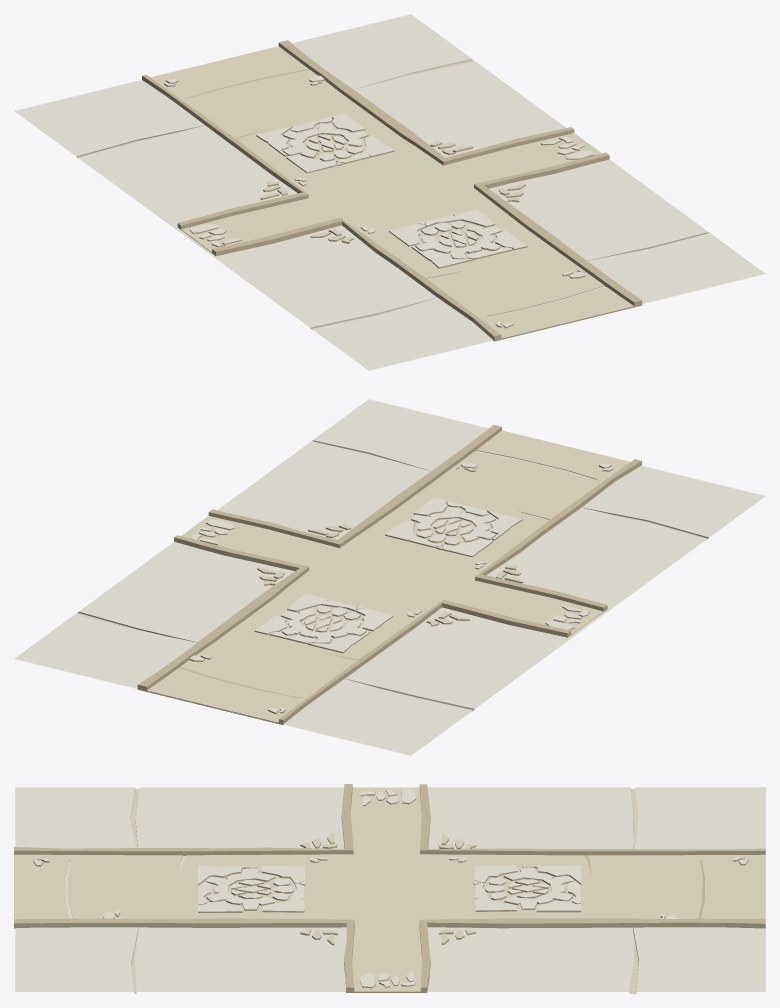
The model's file is Battleground.fbx.
3 renders of one model, top to bottom at view 1: azimuth 30°, elevation 25°; view 2: azimuth 150°, elevation 25°; view 3: azimuth 270°, elevation 25°, orthographic. The views are drawn at different scales.
Visible parts, largest first — view 1: Plane.003, Plane, Plane.002; view 2: Plane.003, Plane, Plane.002; view 3: Plane.003, Plane, Plane.002.
Part boxes in pixels (<box>): Plane.003: <box>14,14,765,370</box>; Plane: <box>142,40,642,341</box>; Plane.002: <box>164,75,594,328</box>; Plane.003: <box>14,399,765,755</box>; Plane: <box>137,425,641,725</box>; Plane.002: <box>189,461,613,714</box>; Plane.003: <box>15,787,765,993</box>; Plane: <box>14,784,765,992</box>; Plane.002: <box>33,789,748,988</box>.
Size of the model in its own units: 722 by 9.83 by 1118.
